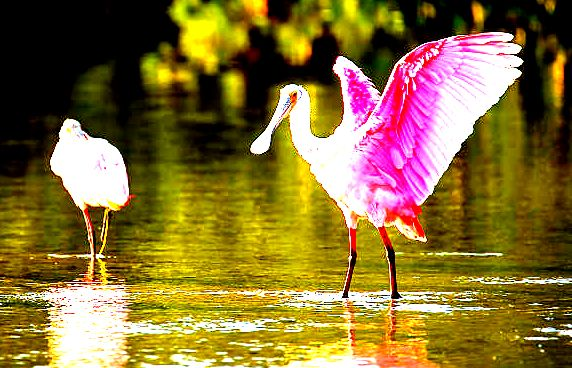Bird: (249, 29, 525, 302), (47, 111, 141, 262)
